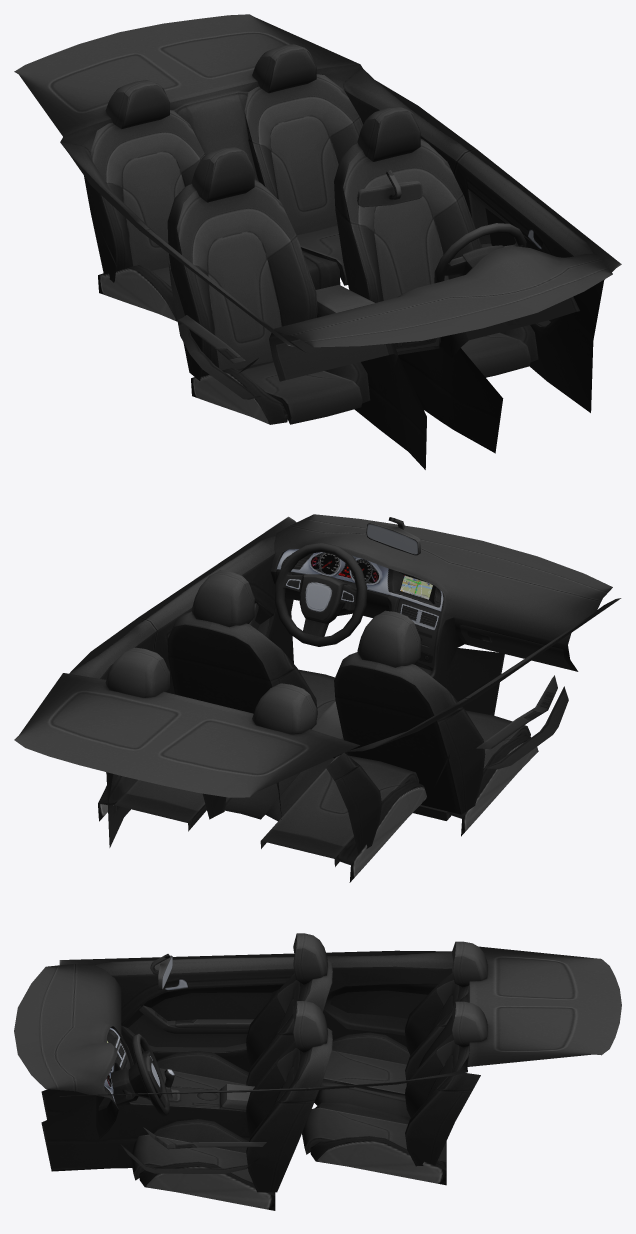
File: Car_02_Interior_F.FBX
3 renders of one model, top to bottom at view 1: azimuth 30°, elevation 25°; view 2: azimuth 150°, elevation 25°; view 3: azimuth 270°, elevation 25°, orthographic. The views are drawn at different scales.
Visible parts, largest first — view 1: Car_02_Interior_F; view 2: Car_02_Interior_F; view 3: Car_02_Interior_F.
Boxes of the visible parts, x1,y1,x2,y2 form: Car_02_Interior_F: (14, 14, 621, 469); Car_02_Interior_F: (14, 514, 621, 882); Car_02_Interior_F: (14, 933, 621, 1210).
Bounding box in the file's own units: 1.53 × 2.87 × 1.06.
